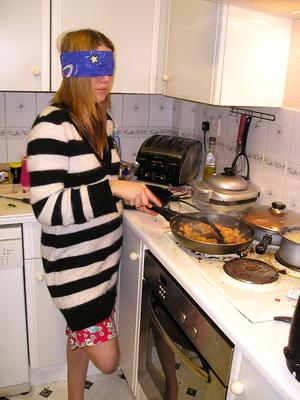person: (27, 26, 161, 400)
